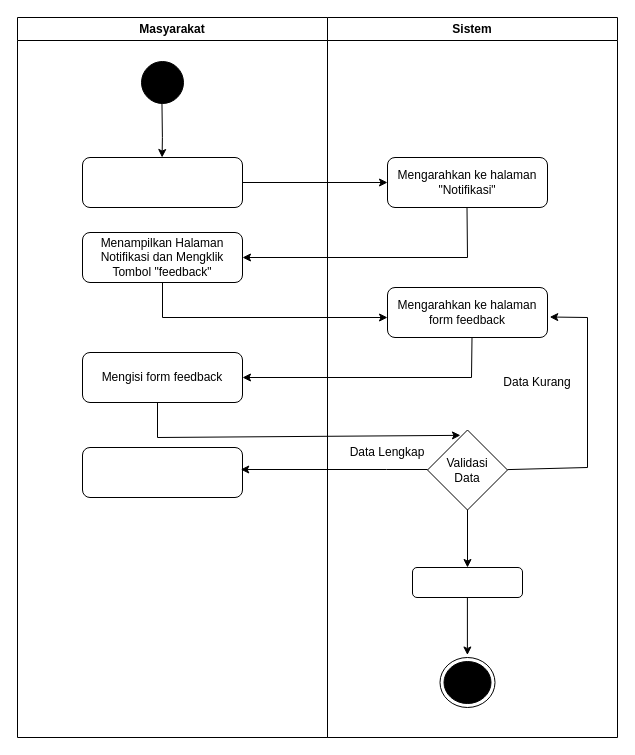
The diagram is 635 pixels wide and 755 high, and some of its shapes have lost their labels. Each missing label, with the centre of its shape:
"Menampilkan halaman Notifikasi berhasil dibuat" belongs at (162,472).
"Pengguna Memilih Menu Notifikasi" belongs at (162,182).
"Tersimpan" belongs at (467,582).
